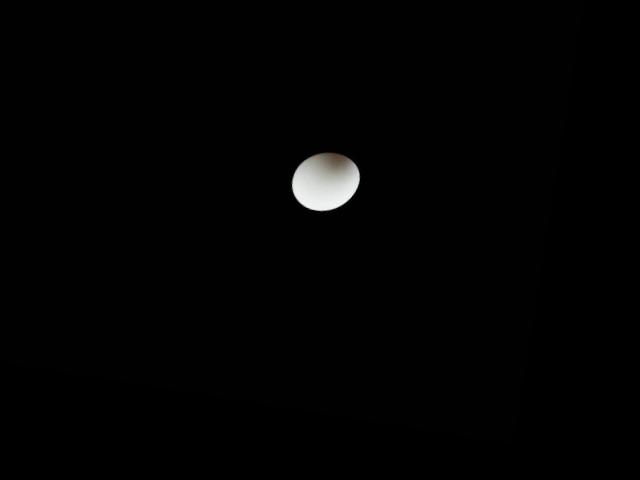egg: (288, 147, 363, 216)
